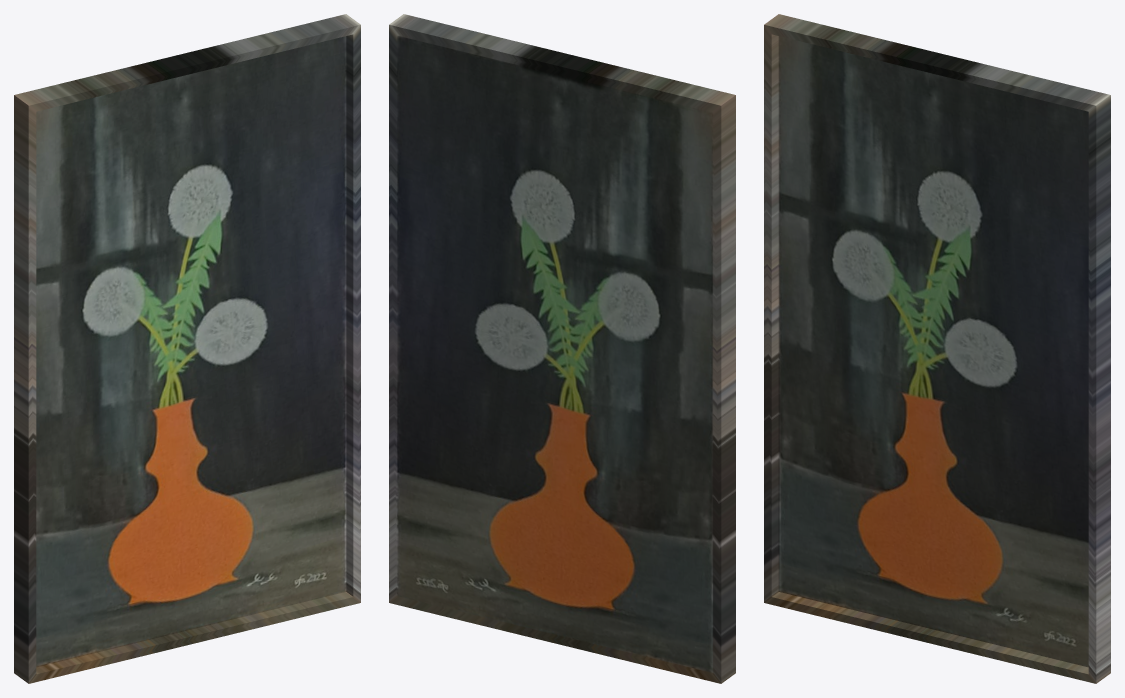
3 views of the same model, side by side, from view 1: azimuth 30°, elevation 25°; view 2: azimuth 150°, elevation 25°; view 3: azimuth 330°, elevation 25° (orthographic).
Visible parts, largest first — view 1: test; view 2: test; view 3: test.
Part boxes in pixels (x1,y1,x2,y2): test: (14,14,360,683); test: (389,14,735,683); test: (764,14,1110,683).
Size of the model in its own units: 61.77 by 103 by 4.73.
